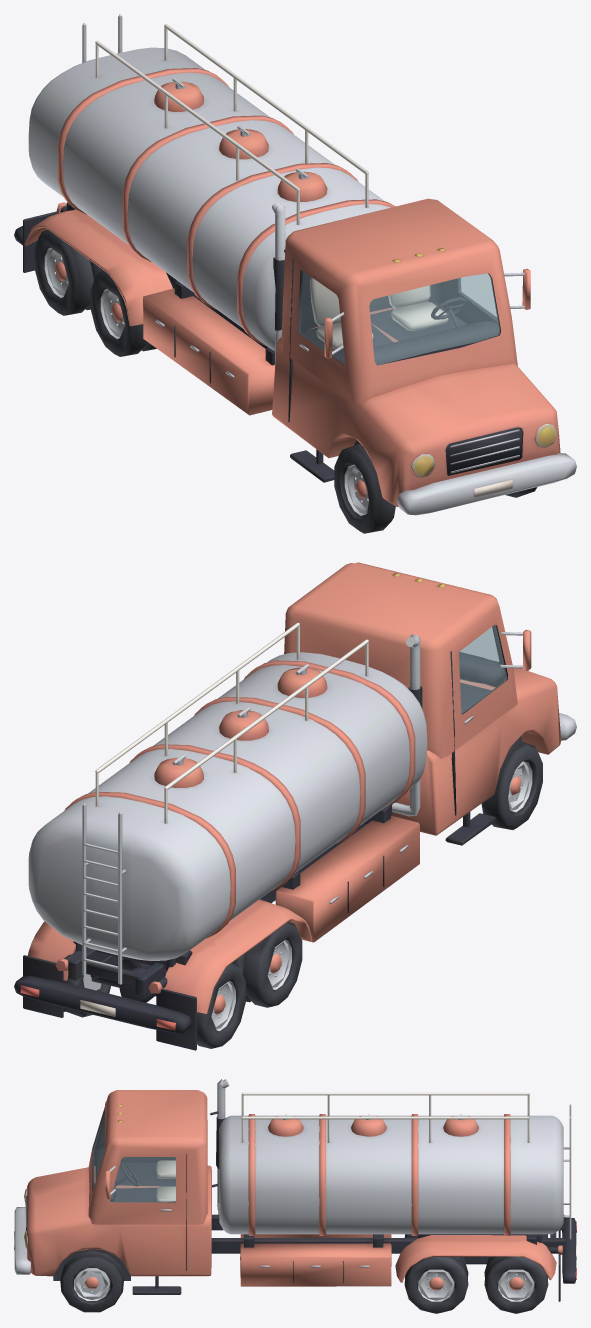
The model's file is n_tanker.glb.
3 renders of one model, top to bottom at view 1: azimuth 30°, elevation 25°; view 2: azimuth 150°, elevation 25°; view 3: azimuth 270°, elevation 25°, orthographic. The views are drawn at different scales.
Visible parts, largest first — view 1: tanker-truck_body, tanker-truck_windows, tanker-truck_wheel_r2r, tanker-truck_wheel_fr, tanker-truck_wheel_r1r; view 2: tanker-truck_body, tanker-truck_wheel_r1r, tanker-truck_wheel_fr, tanker-truck_wheel_r2r, tanker-truck_windows; view 3: tanker-truck_body, tanker-truck_windows, tanker-truck_wheel_fl, tanker-truck_wheel_r2l, tanker-truck_wheel_r1l.
Boxes of the visible parts, left/top/right/bottom form: tanker-truck_body: left=14, top=14, right=576, bottom=515; tanker-truck_windows: left=299, top=271, right=499, bottom=364; tanker-truck_wheel_r2r: left=34, top=230, right=103, bottom=315; tanker-truck_wheel_fr: left=334, top=443, right=395, bottom=533; tanker-truck_wheel_r1r: left=90, top=271, right=156, bottom=356; tanker-truck_body: left=14, top=562, right=576, bottom=1050; tanker-truck_wheel_r1r: left=232, top=922, right=302, bottom=1007; tanker-truck_wheel_fr: left=481, top=740, right=542, bottom=829; tanker-truck_wheel_r2r: left=197, top=963, right=245, bottom=1048; tanker-truck_windows: left=459, top=625, right=506, bottom=713; tanker-truck_body: left=14, top=1079, right=576, bottom=1301; tanker-truck_windows: left=93, top=1113, right=175, bottom=1201; tanker-truck_wheel_fl: left=60, top=1250, right=123, bottom=1312; tanker-truck_wheel_r2l: left=484, top=1256, right=548, bottom=1313; tanker-truck_wheel_r1l: left=404, top=1257, right=468, bottom=1313.
Size of the model in its own units: 2.73 by 3.27 by 9.16.
3 materials, 1 textured.
